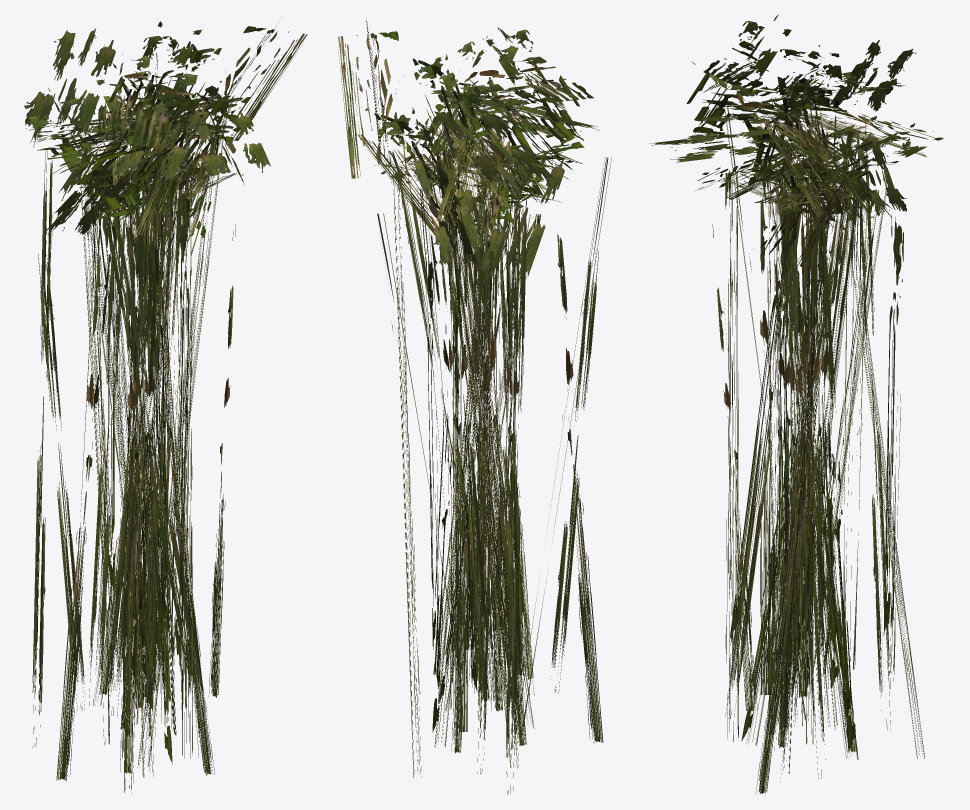
File: reed-grass-lod1.glb
The picture shows the model from 3 angles, left to right: view 1: azimuth 30°, elevation 25°; view 2: azimuth 150°, elevation 25°; view 3: azimuth 270°, elevation 25°; orthographic projection. The views are drawn at different scales.
Parts seen in each view (by area): view 1: foliage; view 2: foliage; view 3: foliage.
Boxes of the visible parts, x1=… form: foliage: x1=24, y1=21, x2=307, y2=793; foliage: x1=338, y1=19, x2=611, y2=794; foliage: x1=649, y1=14, x2=943, y2=795.
Size of the model in its own units: 0.6938 by 1.91 by 0.7221.
1 material, 1 textured.
